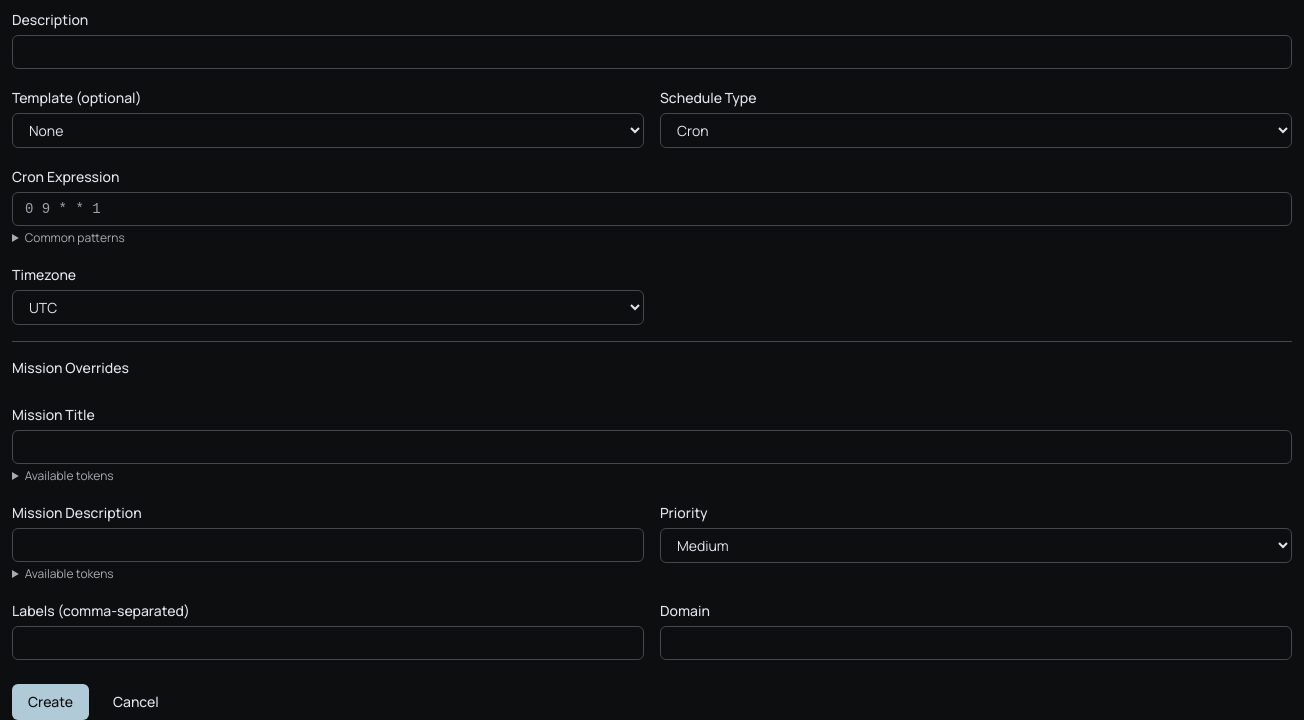
Test: ScheduledTaskForm › validates required fields before submit
The width and height of the screenshot is (1304, 720).
(page scrolled)
Click the button with test id "st-submit": x=50, y=702 [12,684,89,719]
(page scrolled)
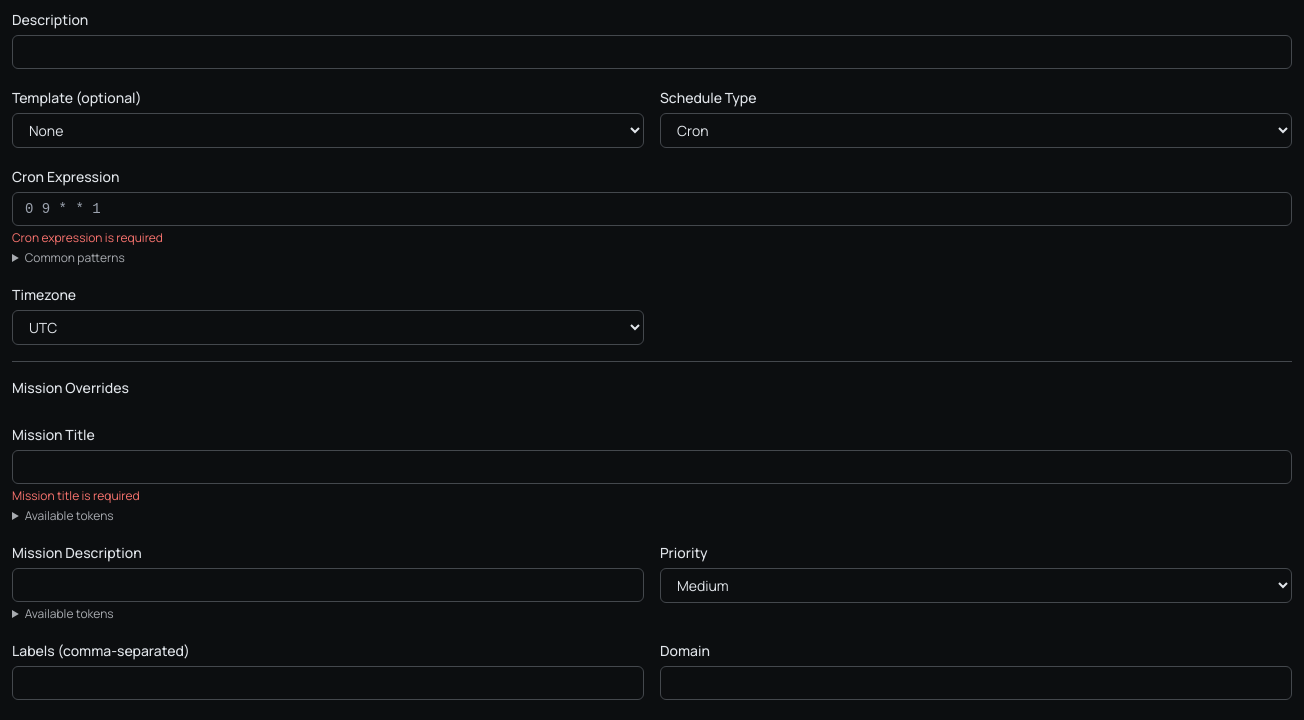
Result: the text "Mission title is required" is shown at [12,487,140,504]
Result: the text "Cron expression is required" is shown at [12,229,163,246]
